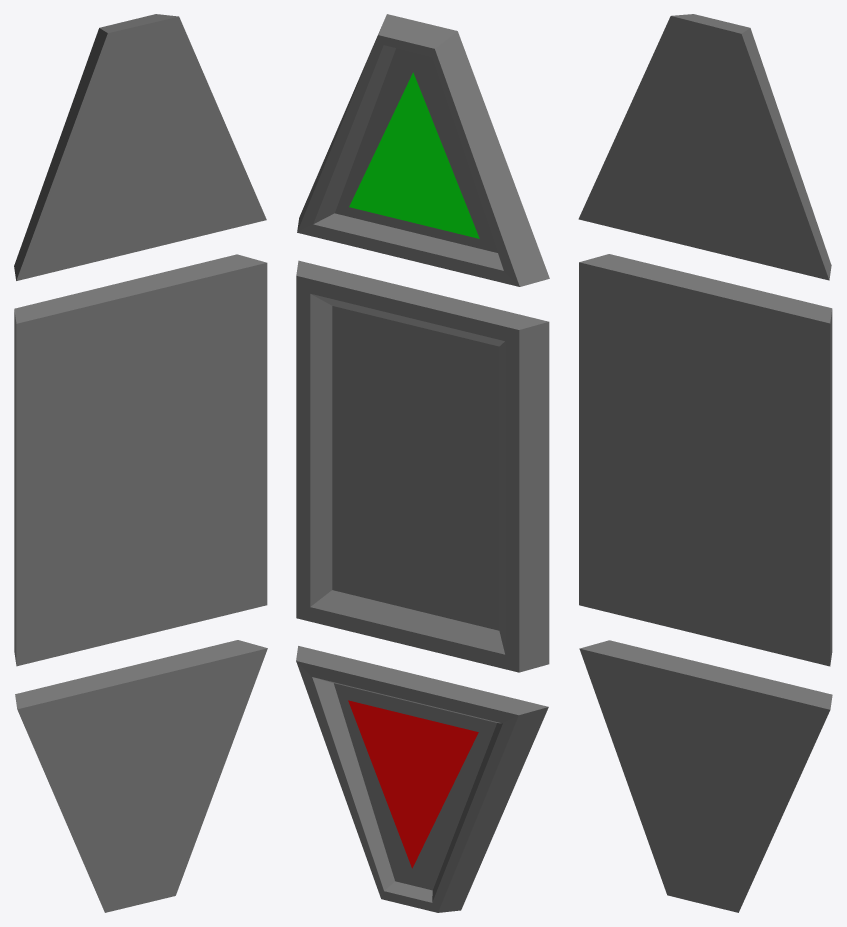
The model's file is tcg-card-prototype-counter.glb.
The picture shows the model from 3 angles, left to right: view 1: azimuth 30°, elevation 25°; view 2: azimuth 150°, elevation 25°; view 3: azimuth 330°, elevation 25°; orthographic projection.
Visible parts, largest first — view 1: card-counter; view 2: card-counter; view 3: card-counter.
Boxes of the visible parts, left/top/right/bottom form: card-counter: left=14, top=14, right=267, bottom=912; card-counter: left=296, top=14, right=549, bottom=912; card-counter: left=578, top=14, right=832, bottom=912.
Size of the model in its own units: 0.4518 by 1.51 by 0.0508.
1 material, 1 textured.
